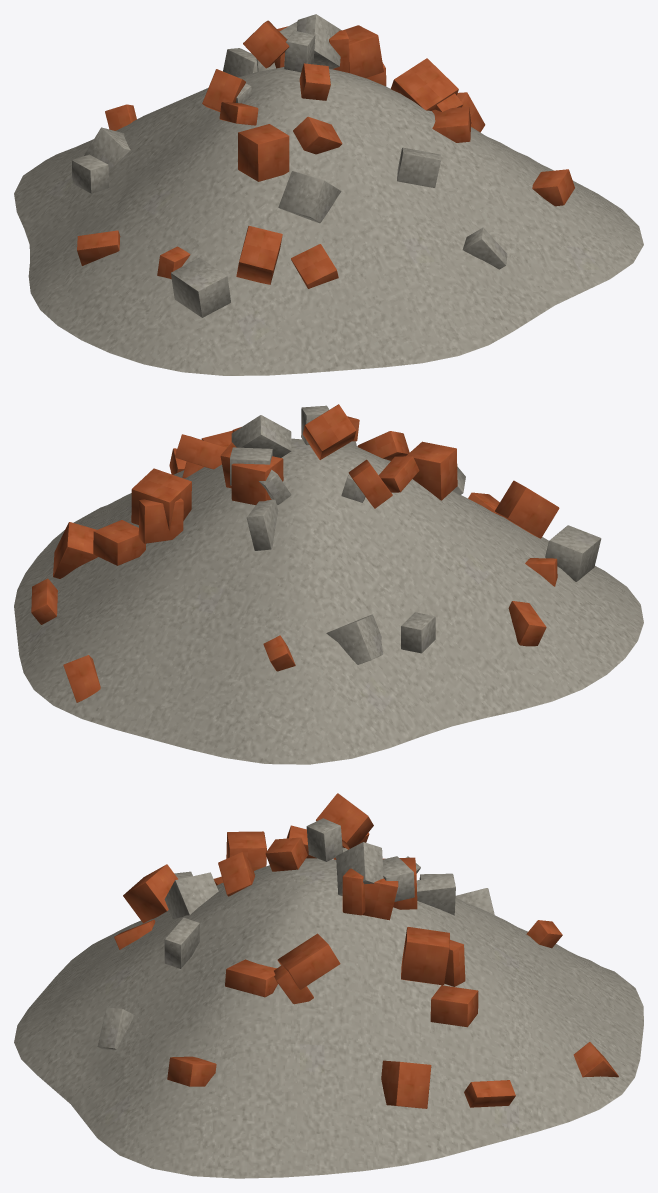
Rendered from SER-DEM-001_lod1.glb.
3 views of the same model, one above another, from view 1: azimuth 30°, elevation 25°; view 2: azimuth 150°, elevation 25°; view 3: azimuth 270°, elevation 25° (orthographic). The views are drawn at different scales.
Visible parts, largest first — view 1: SER-DEM-001_monte, SER-DEM-001_caco9, SER-DEM-001_caco2, SER-DEM-001_caco17, SER-DEM-001_caco1, SER-DEM-001_caco30, SER-DEM-001_caco31, SER-DEM-001_caco23, SER-DEM-001_caco32, SER-DEM-001_caco3, SER-DEM-001_caco15, SER-DEM-001_caco34 (+14 smaller); view 2: SER-DEM-001_monte, SER-DEM-001_caco31, SER-DEM-001_caco30, SER-DEM-001_caco9, SER-DEM-001_caco2, SER-DEM-001_caco15, SER-DEM-001_caco24, SER-DEM-001_caco14, SER-DEM-001_caco7, SER-DEM-001_caco25, SER-DEM-001_caco32, SER-DEM-001_caco22 (+13 smaller); view 3: SER-DEM-001_monte, SER-DEM-001_caco31, SER-DEM-001_caco25, SER-DEM-001_caco1, SER-DEM-001_caco30, SER-DEM-001_caco24, SER-DEM-001_caco17, SER-DEM-001_caco15, SER-DEM-001_caco32, SER-DEM-001_caco6, SER-DEM-001_caco23, SER-DEM-001_caco35 (+15 smaller).
Part boxes in pixels (left/top/right/bottom): SER-DEM-001_monte: left=14, top=67, right=643, bottom=375; SER-DEM-001_caco9: left=238, top=124, right=289, bottom=181; SER-DEM-001_caco2: left=171, top=257, right=230, bottom=317; SER-DEM-001_caco17: left=278, top=171, right=341, bottom=223; SER-DEM-001_caco1: left=390, top=58, right=458, bottom=110; SER-DEM-001_caco30: left=236, top=226, right=282, bottom=284; SER-DEM-001_caco31: left=343, top=25, right=383, bottom=78; SER-DEM-001_caco23: left=397, top=147, right=441, bottom=187; SER-DEM-001_caco32: left=297, top=14, right=341, bottom=69; SER-DEM-001_caco3: left=291, top=244, right=338, bottom=288; SER-DEM-001_caco15: left=243, top=20, right=289, bottom=68; SER-DEM-001_caco34: left=293, top=116, right=342, bottom=154; SER-DEM-001_monte: left=14, top=438, right=643, bottom=764; SER-DEM-001_caco31: left=131, top=468, right=191, bottom=530; SER-DEM-001_caco30: left=495, top=480, right=559, bottom=538; SER-DEM-001_caco9: left=406, top=441, right=457, bottom=500; SER-DEM-001_caco2: left=545, top=525, right=601, bottom=581; SER-DEM-001_caco15: left=303, top=404, right=356, bottom=459; SER-DEM-001_caco24: left=93, top=520, right=145, bottom=565; SER-DEM-001_caco14: left=326, top=614, right=383, bottom=664; SER-DEM-001_caco7: left=231, top=456, right=283, bottom=505; SER-DEM-001_caco25: left=53, top=522, right=97, bottom=578; SER-DEM-001_caco32: left=231, top=415, right=291, bottom=457; SER-DEM-001_caco22: left=138, top=498, right=183, bottom=543; SER-DEM-001_monte: left=14, top=858, right=643, bottom=1178; SER-DEM-001_caco31: left=401, top=927, right=449, bottom=985; SER-DEM-001_caco25: left=381, top=1060, right=431, bottom=1108; SER-DEM-001_caco1: left=277, top=933, right=340, bottom=989; SER-DEM-001_caco30: left=123, top=864, right=178, bottom=923; SER-DEM-001_caco24: left=430, top=985, right=478, bottom=1027; SER-DEM-001_caco17: left=164, top=872, right=218, bottom=919; SER-DEM-001_caco15: left=316, top=793, right=373, bottom=849; SER-DEM-001_caco32: left=336, top=842, right=383, bottom=895; SER-DEM-001_caco6: left=225, top=959, right=277, bottom=997; SER-DEM-001_caco23: left=164, top=917, right=199, bottom=968; SER-DEM-001_caco35: left=306, top=818, right=342, bottom=861.
Size of the model in its own units: 1.65 by 0.6948 by 1.62.
Materials: 2 (2 with a texture image).
